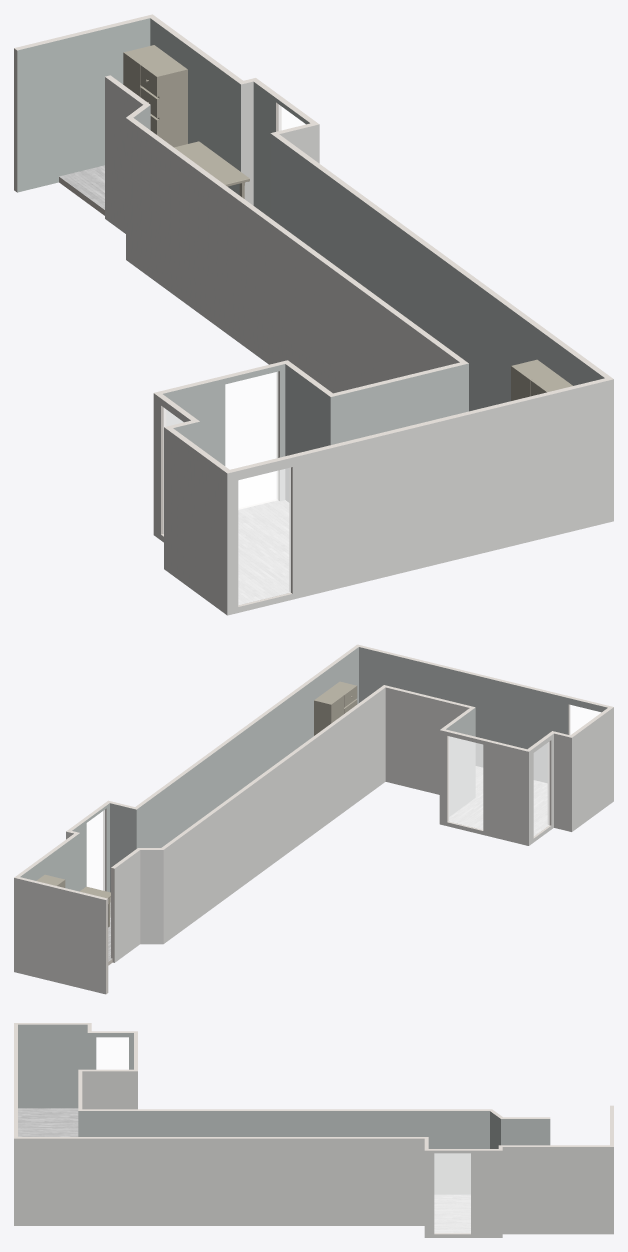
File: HallwayToTheater.glb
3 views of the same model, one above another, from view 1: azimuth 30°, elevation 25°; view 2: azimuth 150°, elevation 25°; view 3: azimuth 270°, elevation 25° (orthographic). The views are drawn at different scales.
Visible parts, largest first — view 1: wall_11, wall_14, wall_26, wall_34, wall_0, wall_42, door_3, door_7, wall_22, floor_Other_2, door_0, door_4 (+16 smaller); view 2: wall_14, wall_26, wall_38, wall_9, wall_13, wall_2, wall_0, door_0, door_4, wall_12, wall_46, wall_4 (+20 smaller); view 3: wall_5, wall_44, wall_3, wall_16, wall_10, door_2, door_6, wall_15, floor_Other_2, floor_Other_3, wall_40, door_1 (+6 smaller).
Boxes of the visible parts, box(x1,y1,x2,y2) form: wall_11: box(227, 379, 613, 615); wall_14: box(126, 118, 459, 393); wall_26: box(270, 133, 604, 411); wall_34: box(17, 18, 150, 192); wall_0: box(164, 427, 227, 614); wall_42: box(330, 363, 468, 444); door_3: box(238, 467, 290, 604); door_7: box(238, 468, 290, 604); wall_22: box(150, 18, 240, 195); floor_Other_2: box(238, 500, 289, 604); door_0: box(225, 372, 277, 469); door_4: box(225, 372, 277, 469); wall_14: box(163, 687, 385, 943); wall_26: box(136, 647, 358, 848); wall_38: box(359, 647, 607, 782); wall_9: box(14, 878, 105, 994); wall_13: box(385, 687, 469, 794); wall_2: box(439, 730, 528, 845); wall_0: box(572, 707, 613, 831); door_0: box(448, 736, 482, 829); door_4: box(448, 736, 482, 829); wall_12: box(114, 850, 140, 962); wall_46: box(446, 707, 475, 816); wall_4: box(140, 850, 163, 944); wall_5: box(14, 1138, 424, 1225); wall_44: box(78, 1111, 489, 1194); wall_3: box(502, 1147, 613, 1234); wall_16: box(18, 1024, 87, 1108); wall_10: box(424, 1150, 502, 1237); door_2: box(434, 1153, 470, 1232); door_6: box(434, 1153, 470, 1232); wall_15: box(82, 1071, 137, 1109); floor_Other_2: box(18, 1108, 78, 1136); floor_Other_3: box(434, 1195, 470, 1232); wall_40: box(501, 1119, 550, 1145); door_1: box(96, 1037, 128, 1069).
Size of the model in its own units: 7.58 by 2.41 by 15.04.
Materials: 41 (3 with a texture image).
